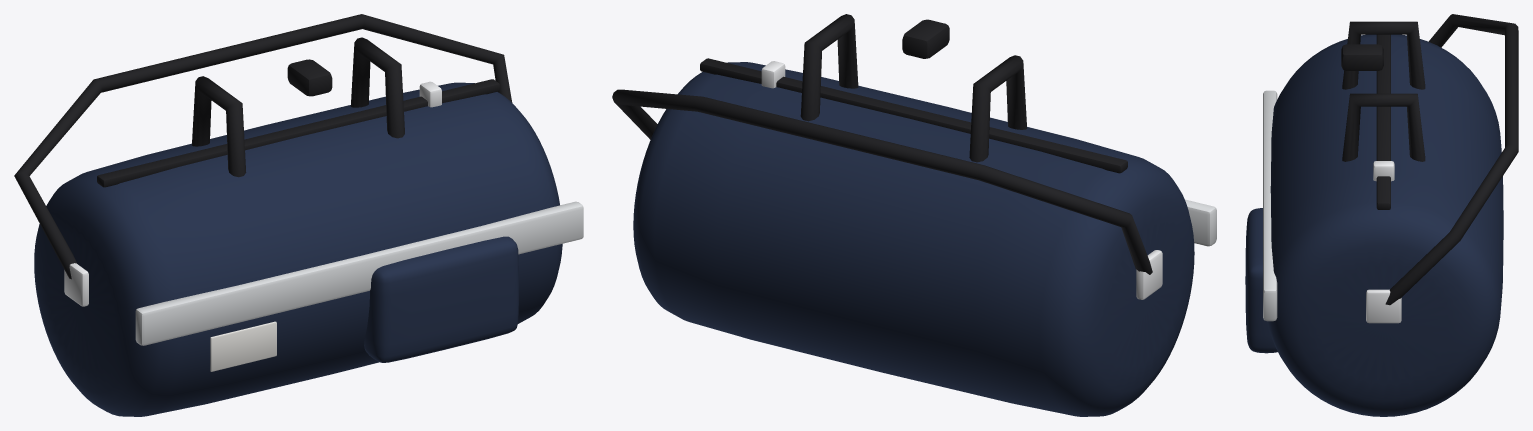
The model's file is borsone-oss.glb.
3 views of the same model, side by side, from view 1: azimuth 30°, elevation 25°; view 2: azimuth 150°, elevation 25°; view 3: azimuth 270°, elevation 25° (orthographic). The views are drawn at different scales.
Parts seen in each view (by area): view 1: borsone-oss; view 2: borsone-oss; view 3: borsone-oss.
Part boxes in pixels (bbox=[...]): borsone-oss: bbox=[14, 14, 583, 416]; borsone-oss: bbox=[612, 14, 1216, 416]; borsone-oss: bbox=[1245, 14, 1518, 416].
Size of the model in its own units: 0.7378 by 0.4436 by 0.3843.
